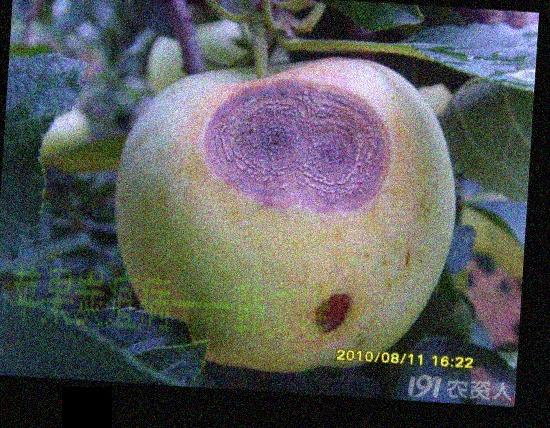rotten apple: (113, 68, 485, 368)
